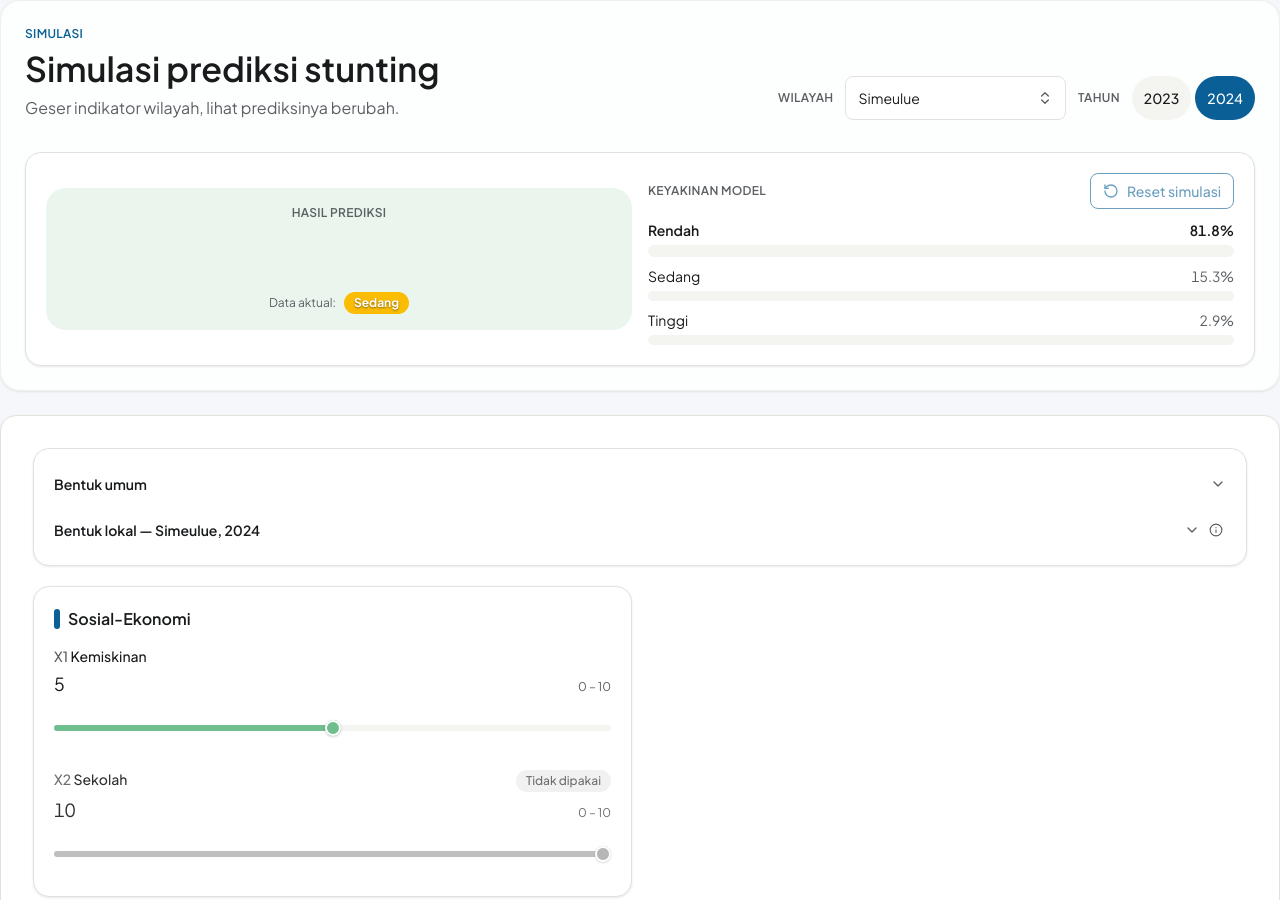
Test case: PredictorSimulator › resets slider values to the region defaults
This screenshot has width=1280, height=900.
Set the slider named "Kemiskinan" to "0": x=96, y=681 [54,670,611,750]
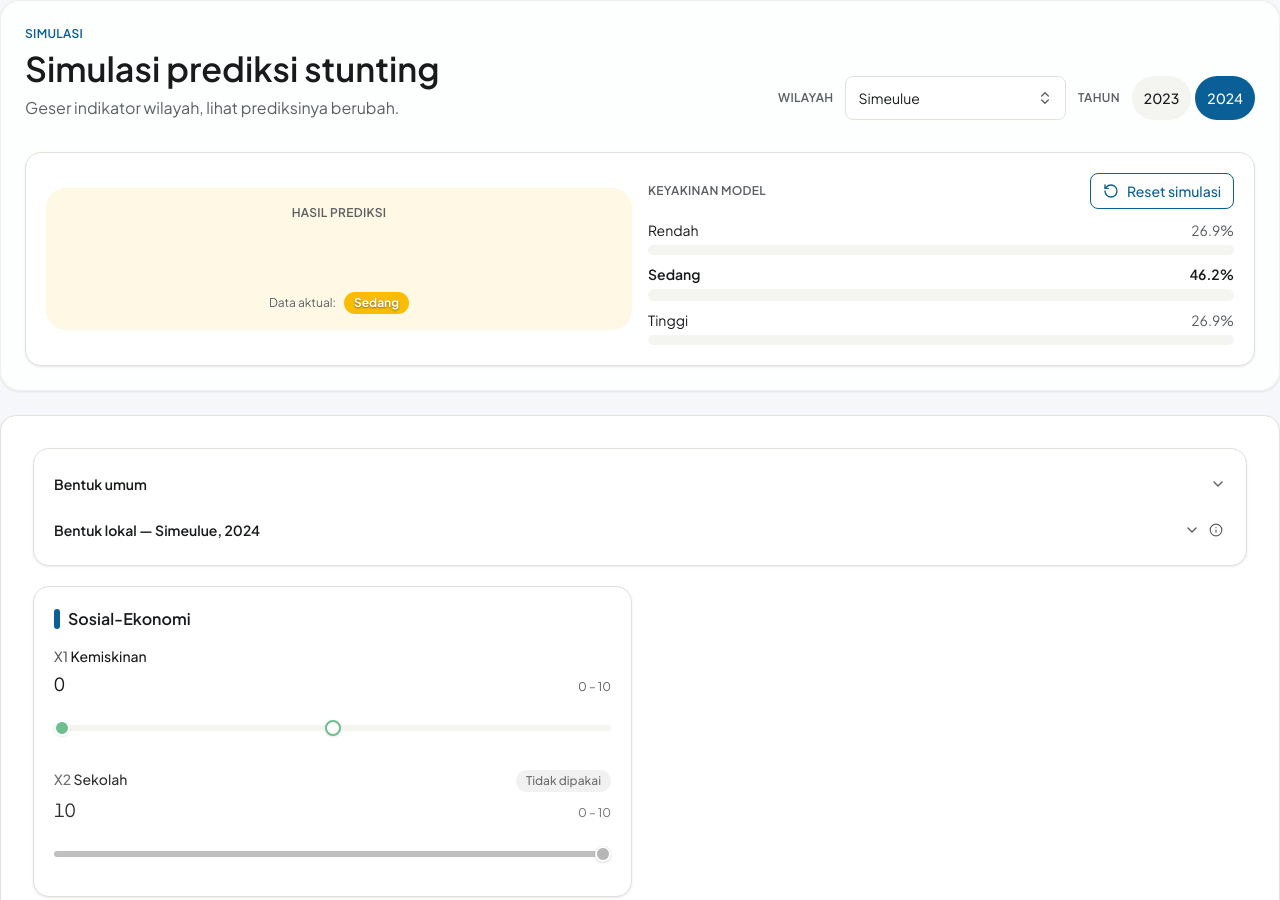
Now the button "Reset simulasi" is enabled
Click the button "Reset simulasi": x=1162, y=191 [1090,173,1234,209]
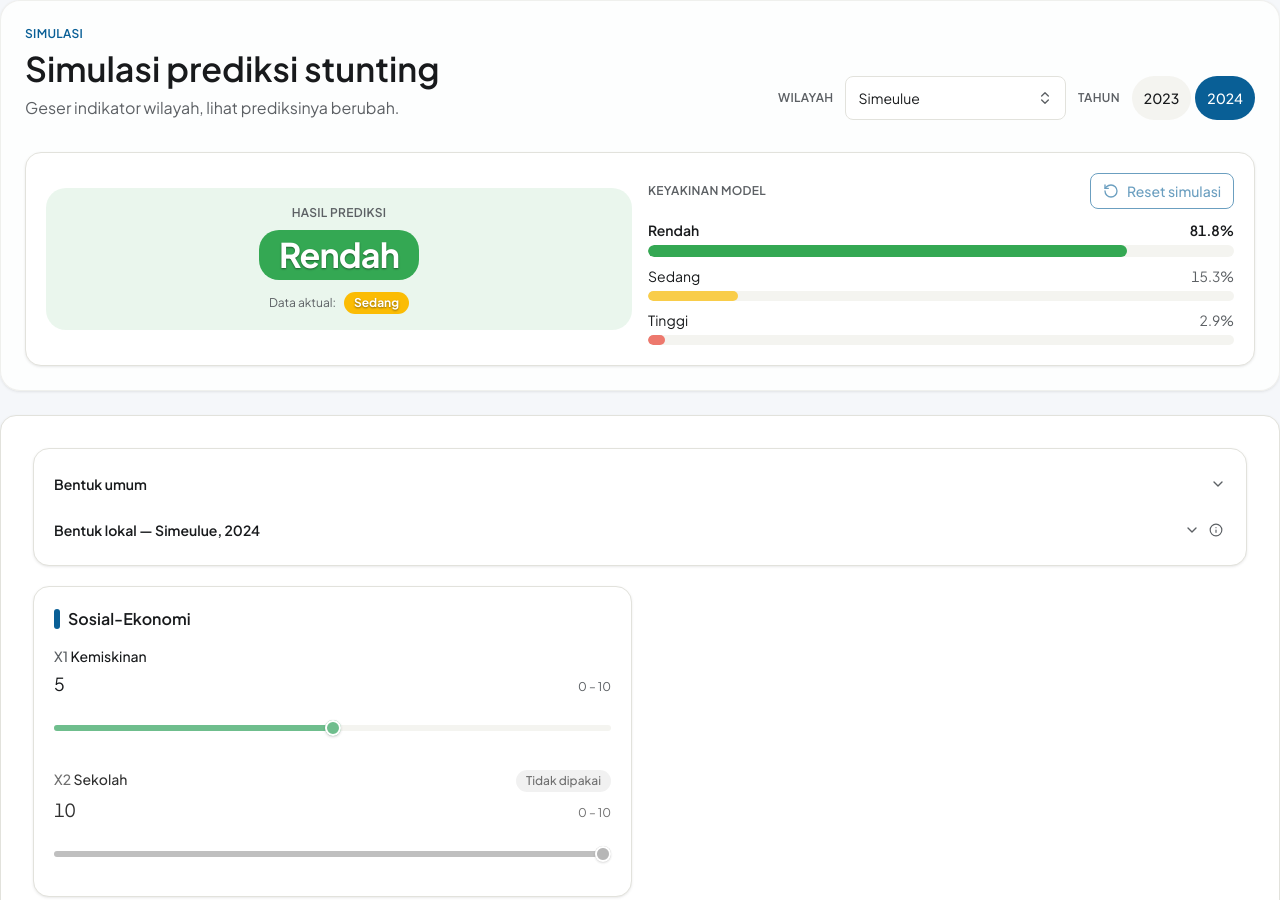
Now the element with test id "predicted-class" reads "Rendah", box [279,233,399,276]
